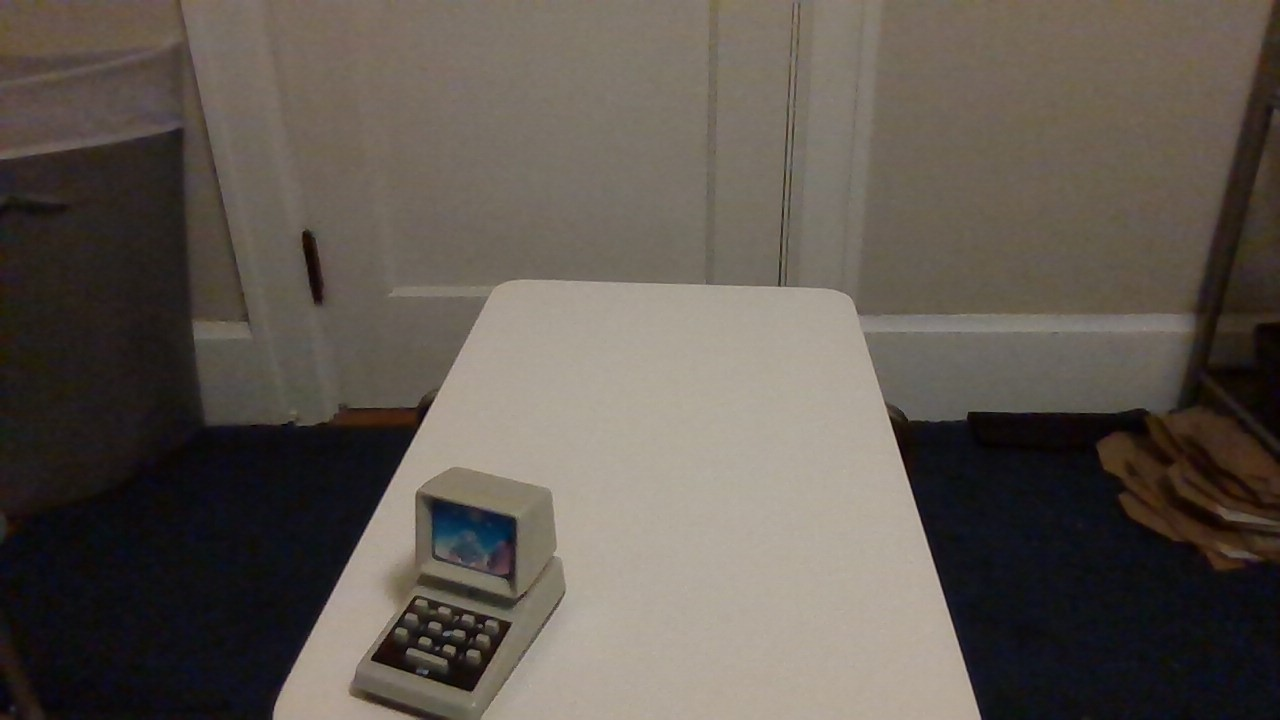Toy: (334, 434, 628, 720)
